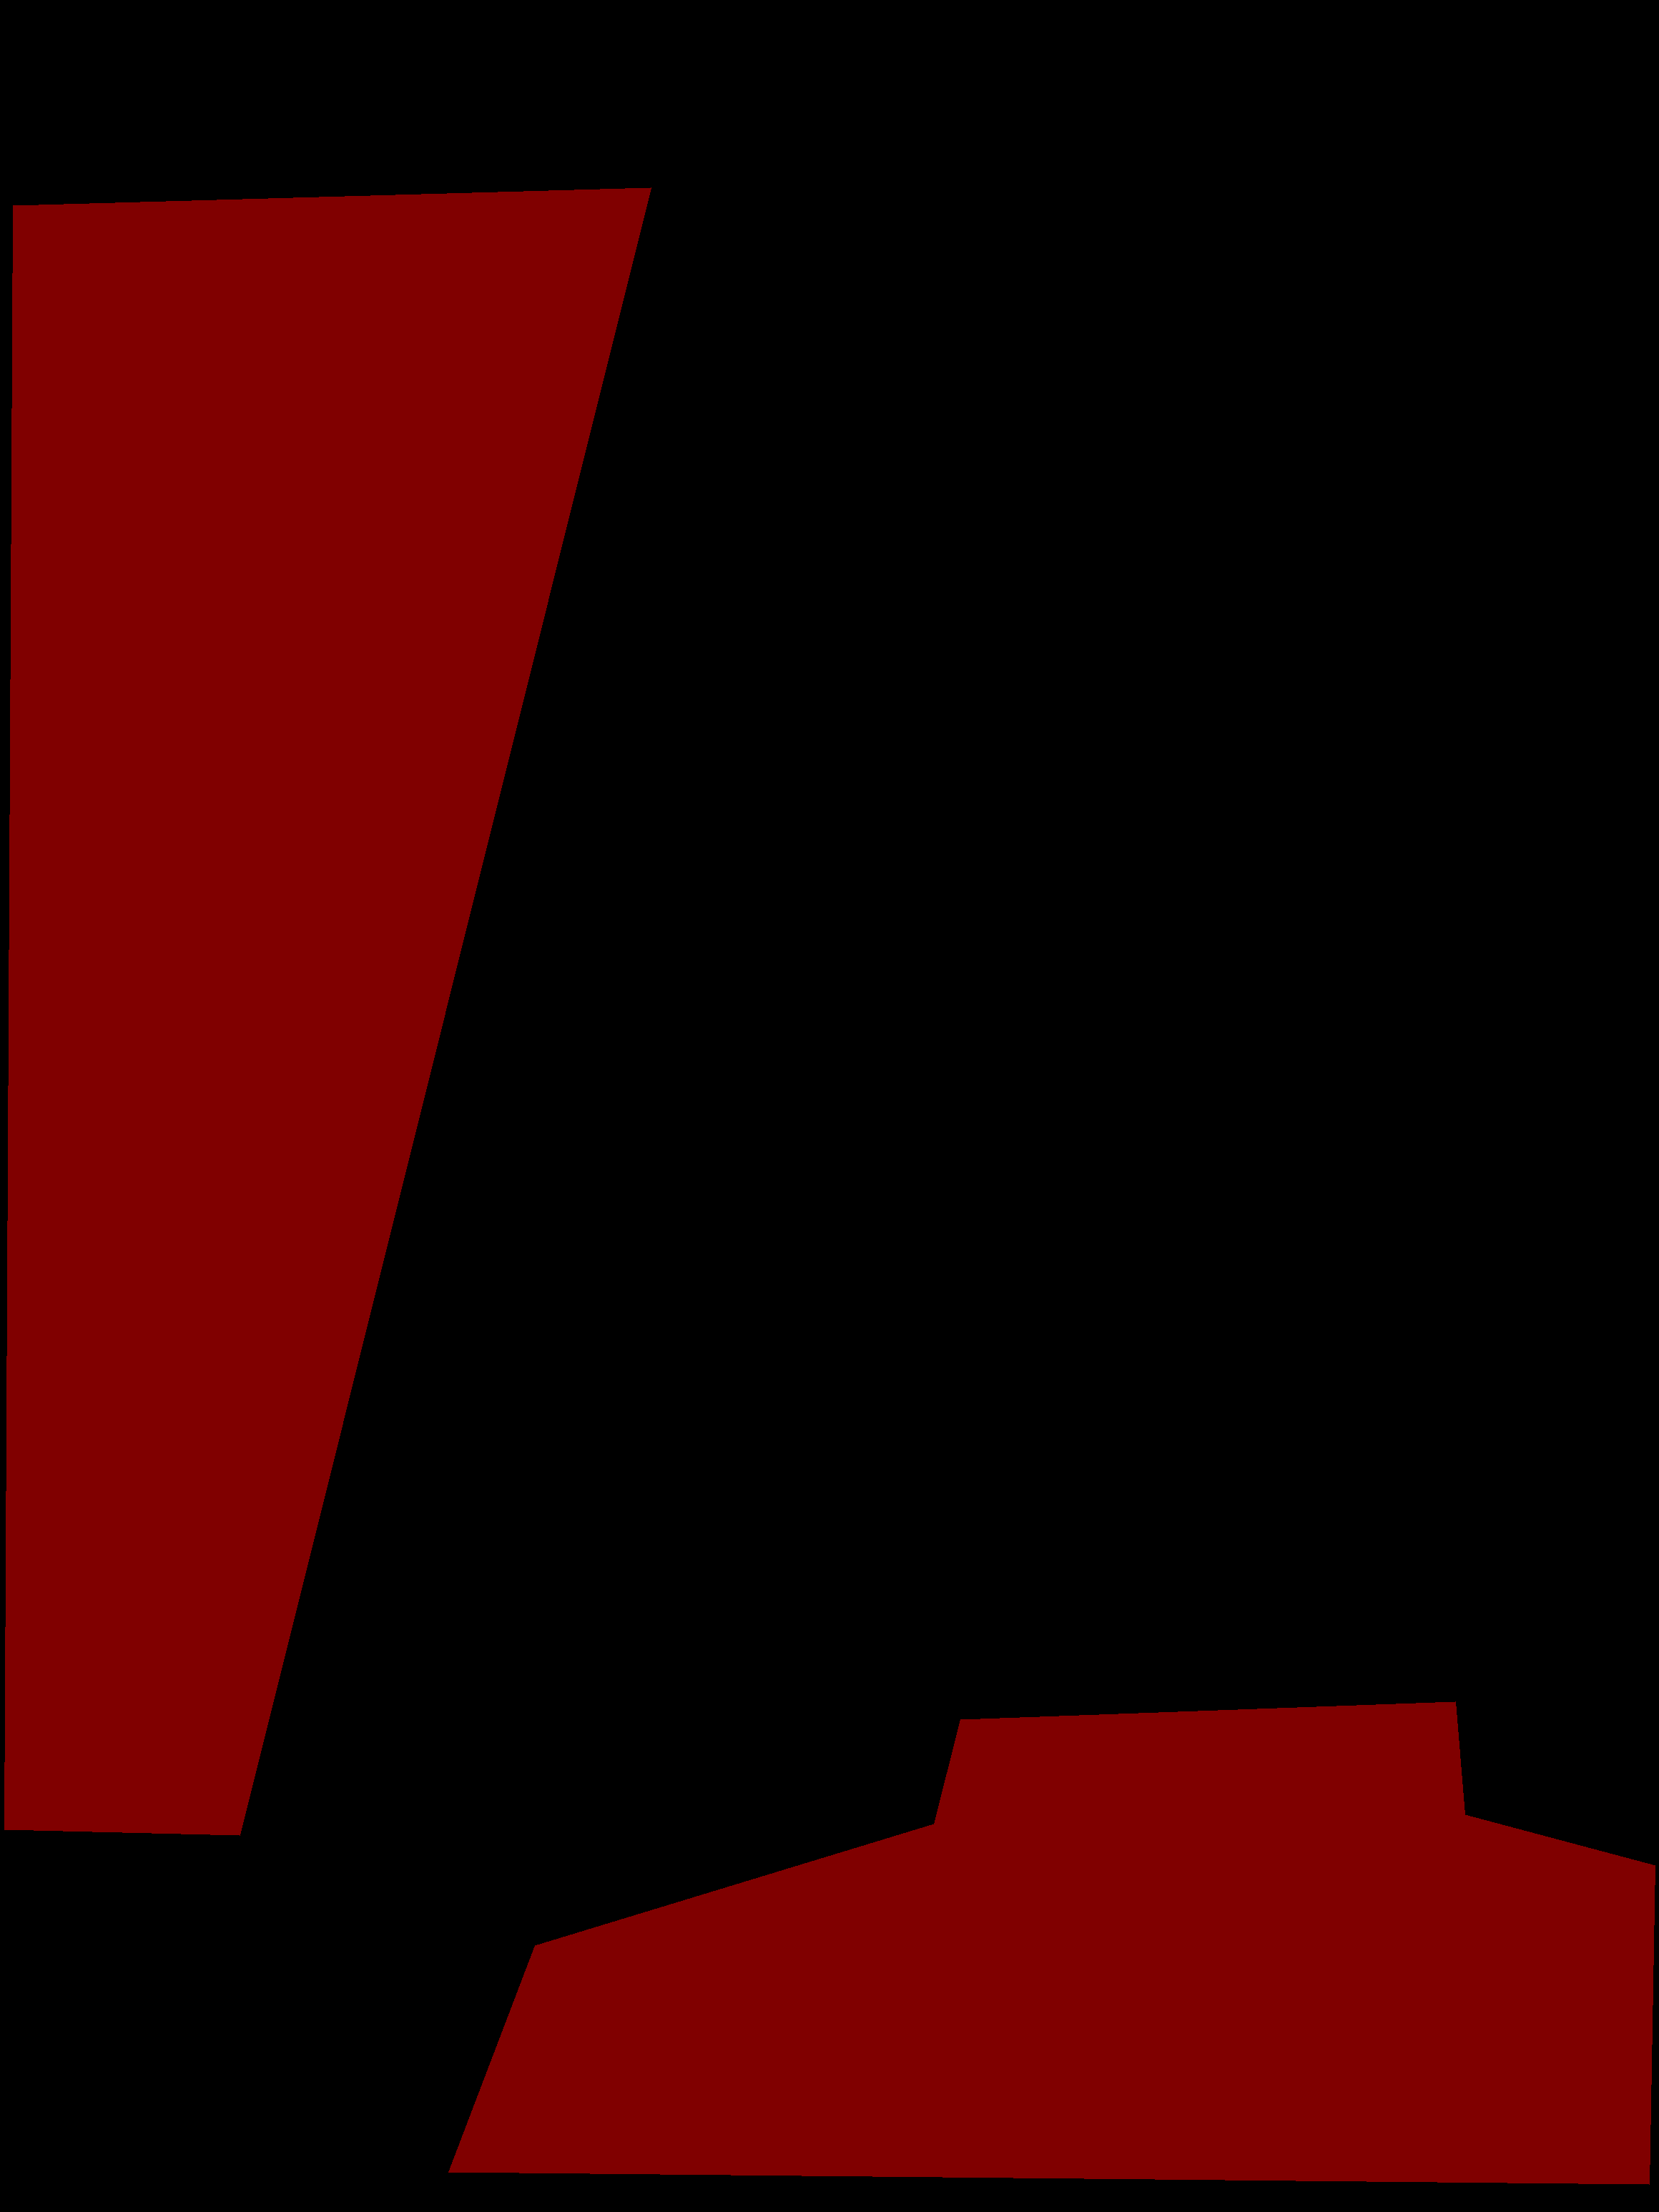stair: (3, 187, 650, 1835), (448, 1701, 1656, 2184)
